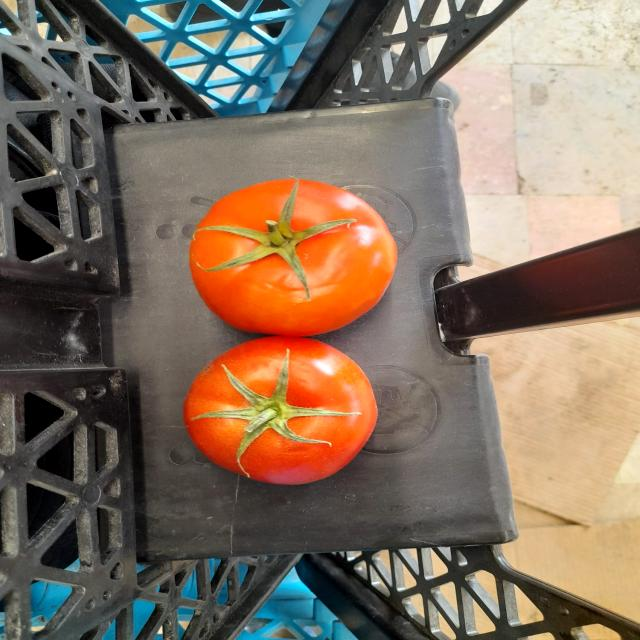tomato: (182, 171, 410, 340), (172, 330, 397, 490)
